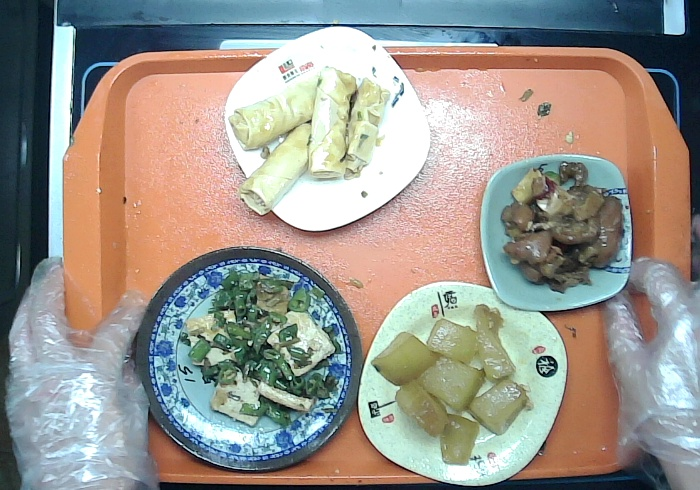NLDX-Bai_Se_Xiao_Fang_Die: (221, 27, 429, 231)
NLDX-Fu_Zi_Fang_Die: (359, 281, 572, 490)
NLDX-Qing_Hua_Xiao_Fang_Die: (480, 152, 633, 314)
NLDX-Qing_Hua_Yuan_Die: (131, 244, 361, 470)
